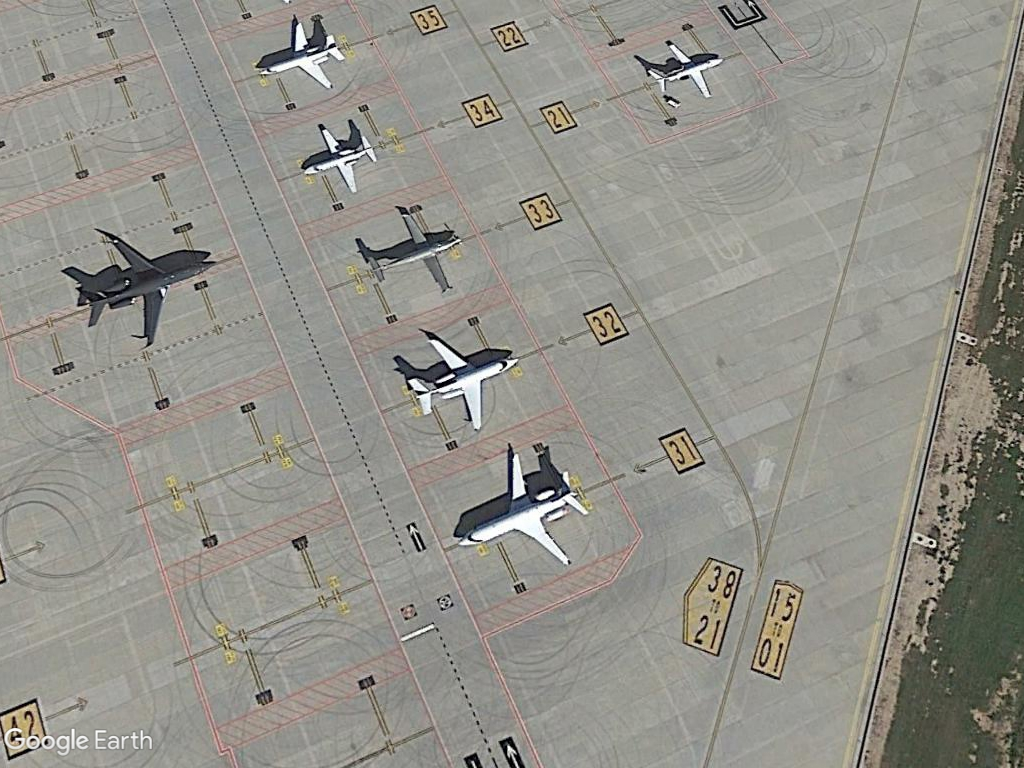chartered: (70, 233, 216, 352), (453, 454, 592, 571), (397, 333, 520, 434), (255, 23, 350, 93), (297, 128, 382, 197), (641, 39, 726, 104)
